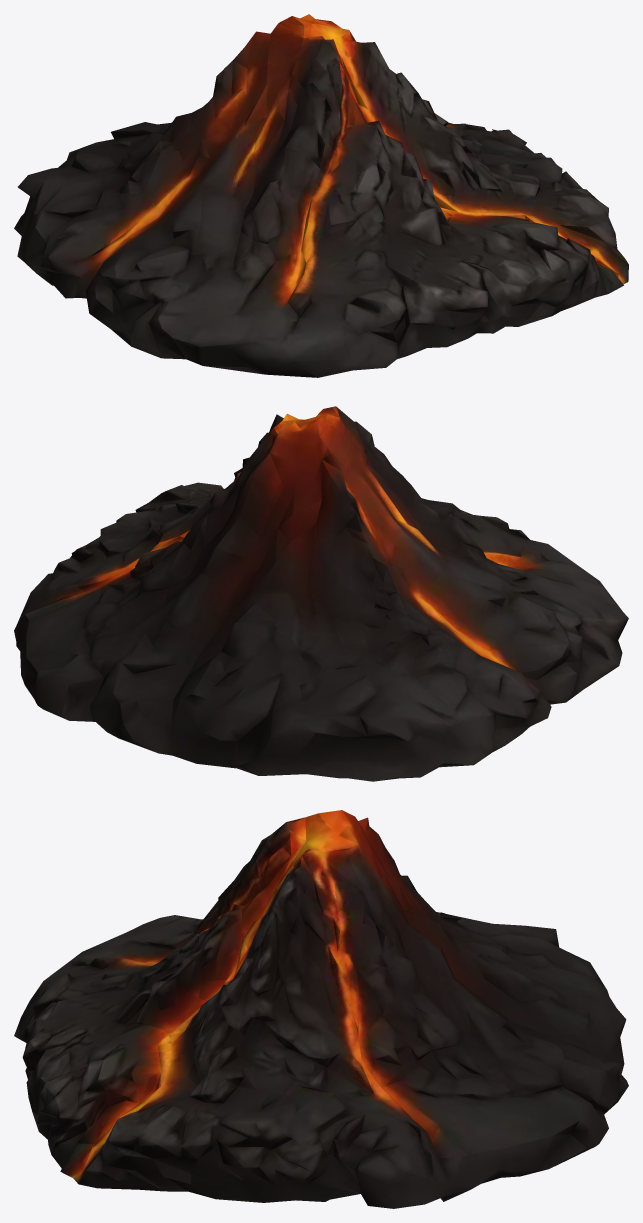
The model's file is m2VolcanoBg.glb.
3 views of the same model, one above another, from view 1: azimuth 30°, elevation 25°; view 2: azimuth 150°, elevation 25°; view 3: azimuth 270°, elevation 25° (orthographic). The views are drawn at different scales.
Parts seen in each view (by area): view 1: model; view 2: model; view 3: model.
Part boxes in pixels (x1,y1,x2,y2): model: (14, 14, 628, 377); model: (14, 406, 628, 781); model: (14, 810, 628, 1208).
Size of the model in its own units: 1.9 by 0.8929 by 1.89.
1 material, 1 textured.
